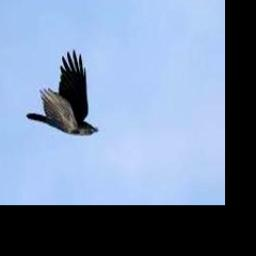Crow: (27, 50, 99, 135)
